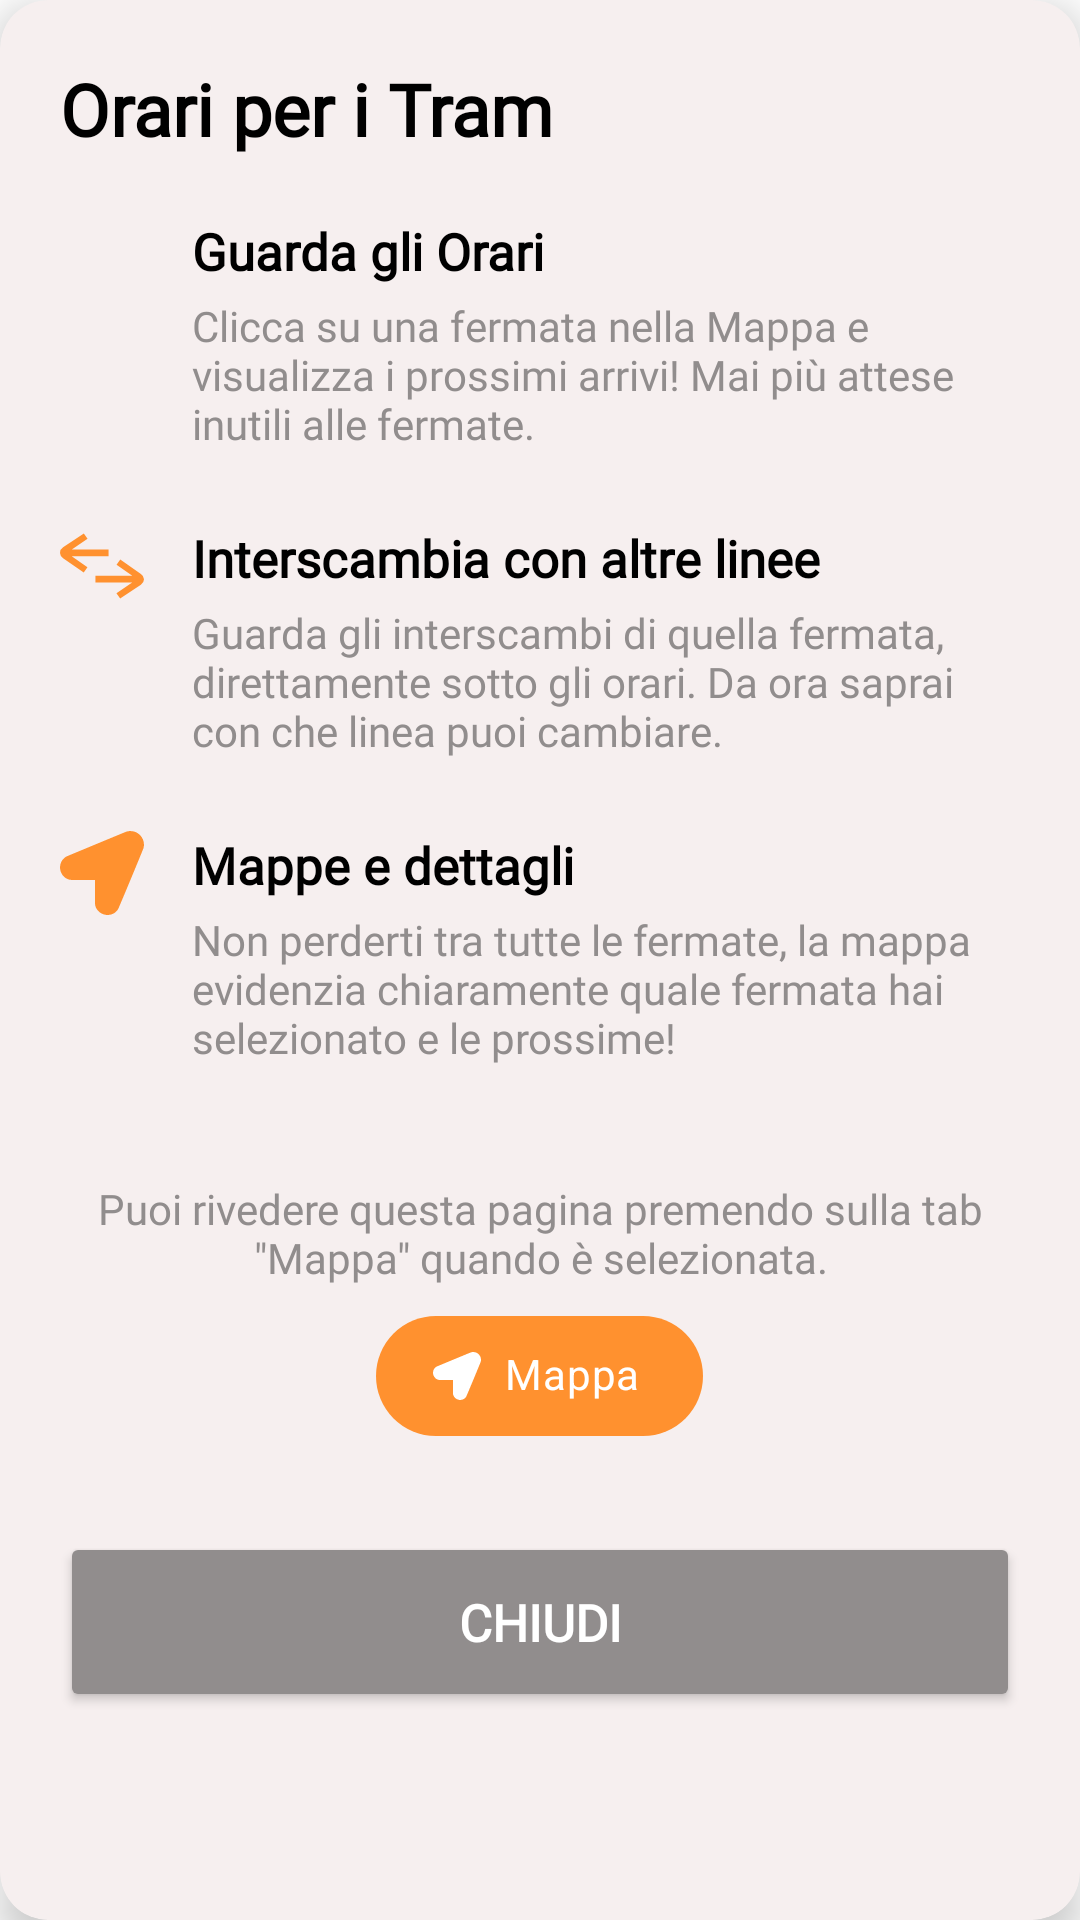

Icon bounding boxes for this 1080px×1920px phone screenshot, format [left=x1, top=y1, right=x2, bottom=y2]:
change route: [left=60, top=533, right=144, bottom=599]
location: [left=60, top=831, right=144, bottom=915]
